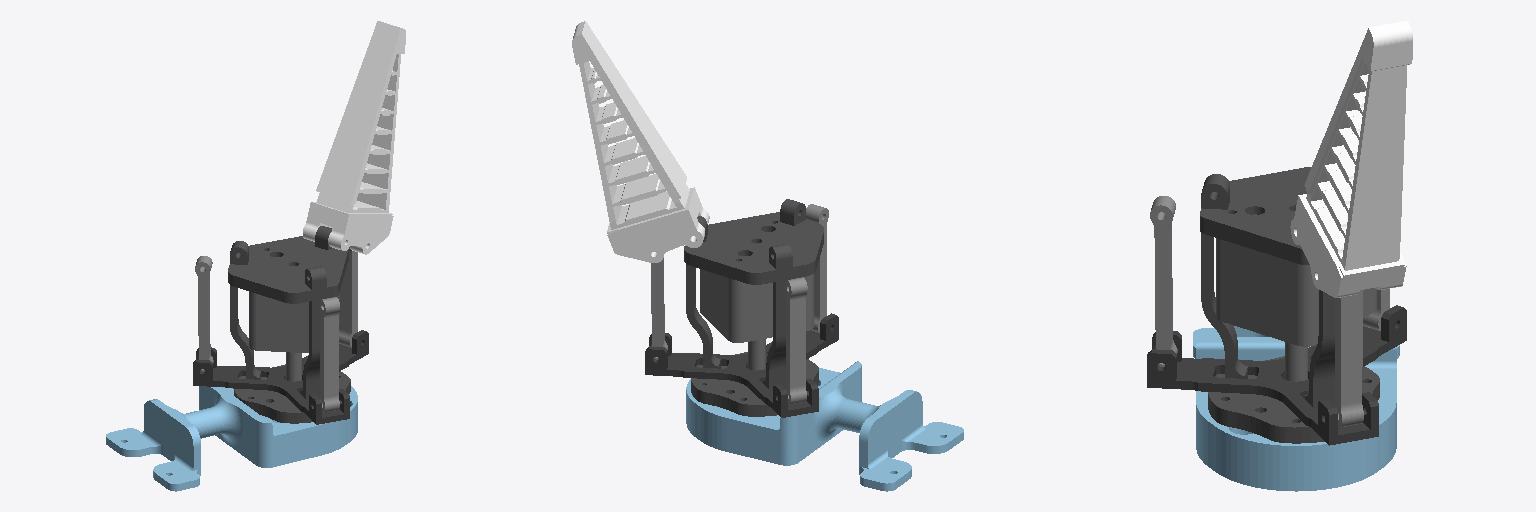
robot.urdf — gripper:
<?xml version="1.0" ?>
<!-- Generated using onshape-to-robot -->
<!-- Onshape document_id: 77ae2a3fa2dfa0e3fa6e957b -->
<robot name="gripper">
  <!-- Link d435_mount -->
  <link name="d435_mount">
    <inertial>
      <origin xyz="0.00378217 0.000154165 0.0635909" rpy="0 0 0"/>
      <mass value="0.105692"/>
      <inertia ixx="7.48223e-05" ixy="-3.1735e-07" ixz="5.26878e-07" iyy="7.47453e-05" iyz="-4.37367e-07" izz="3.93423e-05"/>
    </inertial>
    <!-- Part 42_step_motor -->
    <visual>
      <origin xyz="0.0633248 -0.0560504 0.051284" rpy="-1.5708 1.07553e-16 0.927293"/>
      <geometry>
        <mesh filename="package://gripper_description/meshes/42_step_motor.stl"/>
      </geometry>
      <material name="42_step_motor_material">
        <color rgba="0.501961 0.501961 0.501961 1"/>
      </material>
    </visual>
    <collision>
      <origin xyz="0.0633248 -0.0560504 0.051284" rpy="-1.5708 1.07553e-16 0.927293"/>
      <geometry>
        <mesh filename="package://gripper_description/meshes/42_step_motor.stl"/>
      </geometry>
    </collision>
    <!-- Part fa3_main_body -->
    <visual>
      <origin xyz="0.0633248 -0.0560504 0.050684" rpy="-1.5708 1.07553e-16 0.927293"/>
      <geometry>
        <mesh filename="package://gripper_description/meshes/fa3_main_body.stl"/>
      </geometry>
      <material name="fa3_main_body_material">
        <color rgba="0.372549 0.372549 0.372549 1"/>
      </material>
    </visual>
    <collision>
      <origin xyz="0.0633248 -0.0560504 0.050684" rpy="-1.5708 1.07553e-16 0.927293"/>
      <geometry>
        <mesh filename="package://gripper_description/meshes/fa3_main_body.stl"/>
      </geometry>
    </collision>
    <!-- Part d435_mount -->
    <visual>
      <origin xyz="0.004 -2.44929e-19 0" rpy="1.5708 -0 -1.5708"/>
      <geometry>
        <mesh filename="package://gripper_description/meshes/d435_mount.stl"/>
      </geometry>
      <material name="d435_mount_material">
        <color rgba="0.615686 0.811765 0.929412 1"/>
      </material>
    </visual>
    <collision>
      <origin xyz="0.004 -2.44929e-19 0" rpy="1.5708 -0 -1.5708"/>
      <geometry>
        <mesh filename="package://gripper_description/meshes/d435_mount.stl"/>
      </geometry>
    </collision>
  </link>
  <!-- Frame eef (dummy link + fixed joint) -->
  <link name="eef">
    <origin xyz="0 0 0" rpy="0 -0 0"/>
    <inertial>
      <origin xyz="0 0 0" rpy="0 0 0"/>
      <mass value="1e-9"/>
      <inertia ixx="0" ixy="0" ixz="0" iyy="0" iyz="0" izz="0"/>
    </inertial>
  </link>
  <joint name="eef_frame" type="fixed">
    <origin xyz="0.00399996 -1.25049e-08 0.201" rpy="1.45717e-16 1.07553e-16 0.927293"/>
    <parent link="d435_mount"/>
    <child link="eef"/>
    <axis xyz="0 0 0"/>
  </joint>
  <!-- Link 42_motor_nut -->
  <link name="42_motor_nut">
    <inertial>
      <origin xyz="-4.09809e-15 -9.55014e-16 -0.0013495" rpy="0 0 0"/>
      <mass value="0.0110913"/>
      <inertia ixx="5.82726e-06" ixy="-7.68878e-33" ixz="1.85499e-20" iyy="5.82726e-06" iyz="4.8861e-21" izz="1.14227e-05"/>
    </inertial>
    <!-- Part fa3_driveboard -->
    <visual>
      <origin xyz="-0.00924528 -0.0810901 0.0190666" rpy="-1.5708 -4.90029e-16 0"/>
      <geometry>
        <mesh filename="package://gripper_description/meshes/fa3_driveboard.stl"/>
      </geometry>
      <material name="fa3_driveboard_material">
        <color rgba="0.309804 0.309804 0.309804 1"/>
      </material>
    </visual>
    <collision>
      <origin xyz="-0.00924528 -0.0810901 0.0190666" rpy="-1.5708 -4.90029e-16 0"/>
      <geometry>
        <mesh filename="package://gripper_description/meshes/fa3_driveboard.stl"/>
      </geometry>
    </collision>
    <!-- Part 42_motor_nut -->
    <visual>
      <origin xyz="-0.00924528 -0.0810901 0.0190666" rpy="-1.5708 -0 0"/>
      <geometry>
        <mesh filename="package://gripper_description/meshes/42_motor_nut.stl"/>
      </geometry>
      <material name="42_motor_nut_material">
        <color rgba="1 0.952941 0.380392 1"/>
      </material>
    </visual>
    <collision>
      <origin xyz="-0.00924528 -0.0810901 0.0190666" rpy="-1.5708 -0 0"/>
      <geometry>
        <mesh filename="package://gripper_description/meshes/42_motor_nut.stl"/>
      </geometry>
    </collision>
  </link>
  <!-- Joint from d435_mount to 42_motor_nut -->
  <joint name="slide" type="prismatic">
    <origin xyz="0.00399996 -1.25049e-08 0.02906" rpy="9.4369e-16 9.35345e-17 0.927293"/>
    <parent link="d435_mount"/>
    <child link="42_motor_nut"/>
    <axis xyz="0 0 1"/>
    <limit effort="10" velocity="10" lower="-5.20417e-18" upper="0.01344"/>
  </joint>
  <!-- Link famr20100_soft_2 -->
  <link name="famr20100_soft_2">
    <inertial>
      <origin xyz="-0.0245153 -0.0258708 0.004" rpy="0 0 0"/>
      <mass value="0.0327922"/>
      <inertia ixx="7.79589e-06" ixy="-8.48113e-06" ixz="8.98551e-15" iyy="2.81181e-05" iyz="6.64115e-15" izz="3.32867e-05"/>
    </inertial>
    <!-- Part famr20100_soft_2 -->
    <visual>
      <origin xyz="0.0300985 0.113752 0.0132453" rpy="1.43413 1.5708 0"/>
      <geometry>
        <mesh filename="package://gripper_description/meshes/famr20100_soft_2.stl"/>
      </geometry>
      <material name="famr20100_soft_2_material">
        <color rgba="1 1 1 1"/>
      </material>
    </visual>
    <collision>
      <origin xyz="0.0300985 0.113752 0.0132453" rpy="1.43413 1.5708 0"/>
      <geometry>
        <mesh filename="package://gripper_description/meshes/famr20100_soft_2.stl"/>
      </geometry>
    </collision>
  </link>
  <!-- Link fa3_link_2 -->
  <link name="fa3_link_2">
    <inertial>
      <origin xyz="0.0269889 0.000772768 -0.004" rpy="0 0 0"/>
      <mass value="0.002697"/>
      <inertia ixx="2.26269e-08" ixy="-2.53446e-08" ixz="-1.40691e-24" iyy="9.0706e-07" iyz="3.40899e-25" izz="9.00919e-07"/>
    </inertial>
    <!-- Part fa3_link_2 -->
    <visual>
      <origin xyz="0.0392113 0.127636 0.00524528" rpy="1.5708 1.5708 0"/>
      <geometry>
        <mesh filename="package://gripper_description/meshes/fa3_link_2.stl"/>
      </geometry>
      <material name="fa3_link_2_material">
        <color rgba="0.603922 0.603922 0.603922 1"/>
      </material>
    </visual>
    <collision>
      <origin xyz="0.0392113 0.127636 0.00524528" rpy="1.5708 1.5708 0"/>
      <geometry>
        <mesh filename="package://gripper_description/meshes/fa3_link_2.stl"/>
      </geometry>
    </collision>
  </link>
  <!-- Link 42_motor_nut_2 -->
  <link name="42_motor_nut_2">
    <inertial>
      <origin xyz="0.00480728 -0.0450977 0.004" rpy="0 0 0"/>
      <mass value="0.0110913"/>
      <inertia ixx="1.14207e-05" ixy="-1.04583e-07" ixz="-1.4047e-20" iyy="5.82921e-06" iyz="-1.58977e-20" izz="5.82726e-06"/>
    </inertial>
    <!-- Part fa3_driveboard_2 -->
    <visual>
      <origin xyz="-0.0171211 -0.125792 -0.00524528" rpy="-1.58949 -1.5708 0"/>
      <geometry>
        <mesh filename="package://gripper_description/meshes/fa3_driveboard.stl"/>
      </geometry>
      <material name="fa3_driveboard_2_material">
        <color rgba="0.309804 0.309804 0.309804 1"/>
      </material>
    </visual>
    <collision>
      <origin xyz="-0.0171211 -0.125792 -0.00524528" rpy="-1.58949 -1.5708 0"/>
      <geometry>
        <mesh filename="package://gripper_description/meshes/fa3_driveboard.stl"/>
      </geometry>
    </collision>
    <!-- Part 42_motor_nut_2 -->
    <visual>
      <origin xyz="-0.0171211 -0.125792 -0.00524528" rpy="-1.58949 -1.5708 0"/>
      <geometry>
        <mesh filename="package://gripper_description/meshes/42_motor_nut.stl"/>
      </geometry>
      <material name="42_motor_nut_2_material">
        <color rgba="1 0.952941 0.380392 1"/>
      </material>
    </visual>
    <collision>
      <origin xyz="-0.0171211 -0.125792 -0.00524528" rpy="-1.58949 -1.5708 0"/>
      <geometry>
        <mesh filename="package://gripper_description/meshes/42_motor_nut.stl"/>
      </geometry>
    </collision>
  </link>
  <!-- Joint from fa3_link_2 to 42_motor_nut_2 -->
  <joint name="joint_1_1" type="revolute">
    <origin xyz="0.0539779 0.00154554 0" rpy="-3.14159 -0 3.46945e-18"/>
    <parent link="fa3_link_2"/>
    <child link="42_motor_nut_2"/>
    <axis xyz="0 0 1"/>
    <limit effort="10" velocity="10" lower="-3.141592653589793" upper="3.141592653589793"/>
  </joint>
  <!-- Joint from famr20100_soft_2 to fa3_link_2 -->
  <joint name="joint_1_2" type="revolute">
    <origin xyz="0.00864266 -0.0180362 0.008" rpy="-5.88418e-15 -1.69309e-15 -0.0186952"/>
    <parent link="famr20100_soft_2"/>
    <child link="fa3_link_2"/>
    <axis xyz="0 0 1"/>
    <limit effort="10" velocity="10" lower="-3.141592653589793" upper="3.141592653589793"/>
  </joint>
  <!-- Joint from d435_mount to famr20100_soft_2 -->
  <joint name="joint_1_3" type="revolute">
    <origin xyz="-0.0156 0.0197 0.096" rpy="2.2143 1.5708 0"/>
    <parent link="d435_mount"/>
    <child link="famr20100_soft_2"/>
    <axis xyz="0 0 1"/>
    <limit effort="10" velocity="10" lower="-3.141592653589793" upper="3.141592653589793"/>
  </joint>
  <!-- Link famr20100_soft_1 -->
  <link name="famr20100_soft_1">
    <inertial>
      <origin xyz="-0.0222895 0.0278115 0.004" rpy="0 0 0"/>
      <mass value="0.0327922"/>
      <inertia ixx="3.00303e-05" ixy="5.42327e-06" ixz="1.35211e-13" iyy="5.88364e-06" iyz="-4.5334e-13" izz="3.32867e-05"/>
    </inertial>
    <!-- Part famr20100_soft_1 -->
    <visual>
      <origin xyz="-0.0210517 -0.045316 0.0696035" rpy="-3.14159 -0.523599 0"/>
      <geometry>
        <mesh filename="package://gripper_description/meshes/famr20100_soft_1.stl"/>
      </geometry>
      <material name="famr20100_soft_1_material">
        <color rgba="1 1 1 1"/>
      </material>
    </visual>
    <collision>
      <origin xyz="-0.0210517 -0.045316 0.0696035" rpy="-3.14159 -0.523599 0"/>
      <geometry>
        <mesh filename="package://gripper_description/meshes/famr20100_soft_1.stl"/>
      </geometry>
    </collision>
  </link>
  <!-- Link fa3_link -->
  <link name="fa3_link">
    <inertial>
      <origin xyz="0.0269889 0.000772768 -0.004" rpy="0 0 0"/>
      <mass value="0.002697"/>
      <inertia ixx="2.26269e-08" ixy="-2.53446e-08" ixz="-2.47948e-23" iyy="9.0706e-07" iyz="1.1577e-23" izz="9.00919e-07"/>
    </inertial>
    <!-- Part fa3_link -->
    <visual>
      <origin xyz="0.0392113 -0.00200617 0.0616035" rpy="3.14159 -0.523599 1.5708"/>
      <geometry>
        <mesh filename="package://gripper_description/meshes/fa3_link.stl"/>
      </geometry>
      <material name="fa3_link_material">
        <color rgba="0.603922 0.603922 0.603922 1"/>
      </material>
    </visual>
    <collision>
      <origin xyz="0.0392113 -0.00200617 0.0616035" rpy="3.14159 -0.523599 1.5708"/>
      <geometry>
        <mesh filename="package://gripper_description/meshes/fa3_link.stl"/>
      </geometry>
    </collision>
  </link>
  <!-- Link 42_motor_nut_3 -->
  <link name="42_motor_nut_3">
    <inertial>
      <origin xyz="0.0450977 0.00480728 0.004" rpy="0 0 0"/>
      <mass value="0.0110913"/>
      <inertia ixx="5.82921e-06" ixy="1.04583e-07" ixz="-3.76397e-19" iyy="1.14207e-05" iyz="1.59138e-20" izz="5.82726e-06"/>
    </inertial>
    <!-- Part fa3_driveboard_3 -->
    <visual>
      <origin xyz="-0.00382713 -0.0146976 -0.0616035" rpy="6.99202e-16 0.523599 -0.0186952"/>
      <geometry>
        <mesh filename="package://gripper_description/meshes/fa3_driveboard.stl"/>
      </geometry>
      <material name="fa3_driveboard_3_material">
        <color rgba="0.309804 0.309804 0.309804 1"/>
      </material>
    </visual>
    <collision>
      <origin xyz="-0.00382713 -0.0146976 -0.0616035" rpy="6.99202e-16 0.523599 -0.0186952"/>
      <geometry>
        <mesh filename="package://gripper_description/meshes/fa3_driveboard.stl"/>
      </geometry>
    </collision>
    <!-- Part 42_motor_nut_3 -->
    <visual>
      <origin xyz="-0.00382713 -0.0146976 -0.0616035" rpy="9.8212e-16 0.523599 -0.0186952"/>
      <geometry>
        <mesh filename="package://gripper_description/meshes/42_motor_nut.stl"/>
      </geometry>
      <material name="42_motor_nut_3_material">
        <color rgba="1 0.952941 0.380392 1"/>
      </material>
    </visual>
    <collision>
      <origin xyz="-0.00382713 -0.0146976 -0.0616035" rpy="9.8212e-16 0.523599 -0.0186952"/>
      <geometry>
        <mesh filename="package://gripper_description/meshes/42_motor_nut.stl"/>
      </geometry>
    </collision>
  </link>
  <!-- Joint from fa3_link to 42_motor_nut_3 -->
  <joint name="joint_2_1" type="revolute">
    <origin xyz="0.0539779 0.00154554 -2.1684e-18" rpy="3.14159 -1.38778e-17 1.5708"/>
    <parent link="fa3_link"/>
    <child link="42_motor_nut_3"/>
    <axis xyz="0 0 1"/>
    <limit effort="10" velocity="10" lower="-3.141592653589793" upper="3.141592653589793"/>
  </joint>
  <!-- Joint from famr20100_soft_1 to fa3_link -->
  <joint name="joint_2_2" type="revolute">
    <origin xyz="-0.0190455 -0.00610471 0.008" rpy="-6.10623e-15 -3.9465e-16 -1.72616"/>
    <parent link="famr20100_soft_1"/>
    <child link="fa3_link"/>
    <axis xyz="0 0 1"/>
    <limit effort="10" velocity="10" lower="-3.141592653589793" upper="3.141592653589793"/>
  </joint>
  <!-- Joint from d435_mount to famr20100_soft_1 -->
  <joint name="joint_2_3" type="revolute">
    <origin xyz="-0.00326079 -0.0268241 0.096" rpy="1.5708 -0.136671 1.45089"/>
    <parent link="d435_mount"/>
    <child link="famr20100_soft_1"/>
    <axis xyz="0 0 1"/>
    <limit effort="10" velocity="10" lower="-3.141592653589793" upper="3.141592653589793"/>
  </joint>
  <!-- Link famr20100_soft -->
  <link name="famr20100_soft">
    <inertial>
      <origin xyz="0.0258708 -0.0245153 0.004" rpy="0 0 0"/>
      <mass value="0.0327922"/>
      <inertia ixx="2.8118e-05" ixy="8.48113e-06" ixz="1.83614e-13" iyy="7.79589e-06" iyz="-4.12638e-13" izz="3.32867e-05"/>
    </inertial>
    <!-- Part famr20100_soft -->
    <visual>
      <origin xyz="-0.0011827 0.0455799 -0.0708487" rpy="-6.73037e-16 -0.523599 0.136671"/>
      <geometry>
        <mesh filename="package://gripper_description/meshes/famr20100_soft.stl"/>
      </geometry>
      <material name="famr20100_soft_material">
        <color rgba="1 1 1 1"/>
      </material>
    </visual>
    <collision>
      <origin xyz="-0.0011827 0.0455799 -0.0708487" rpy="-6.73037e-16 -0.523599 0.136671"/>
      <geometry>
        <mesh filename="package://gripper_description/meshes/famr20100_soft.stl"/>
      </geometry>
    </collision>
  </link>
  <!-- Link fa3_link_1 -->
  <link name="fa3_link_1">
    <inertial>
      <origin xyz="0.0269889 0.000772768 -0.004" rpy="0 0 0"/>
      <mass value="0.002697"/>
      <inertia ixx="2.26269e-08" ixy="-2.53446e-08" ixz="-4.91431e-23" iyy="9.0706e-07" iyz="-3.46703e-23" izz="9.00919e-07"/>
    </inertial>
    <!-- Part fa3_link_1 -->
    <visual>
      <origin xyz="0.0392113 0.0140071 -0.0788487" rpy="5.07782e-16 -0.523599 -1.5708"/>
      <geometry>
        <mesh filename="package://gripper_description/meshes/fa3_link_1.stl"/>
      </geometry>
      <material name="fa3_link_1_material">
        <color rgba="0.603922 0.603922 0.603922 1"/>
      </material>
    </visual>
    <collision>
      <origin xyz="0.0392113 0.0140071 -0.0788487" rpy="5.07782e-16 -0.523599 -1.5708"/>
      <geometry>
        <mesh filename="package://gripper_description/meshes/fa3_link_1.stl"/>
      </geometry>
    </collision>
  </link>
  <!-- Link 42_motor_nut_4 -->
  <link name="42_motor_nut_4">
    <inertial>
      <origin xyz="-0.0450977 -0.00480728 0.004" rpy="0 0 0"/>
      <mass value="0.0110913"/>
      <inertia ixx="5.82921e-06" ixy="1.04583e-07" ixz="-3.43173e-19" iyy="1.14207e-05" iyz="-2.78735e-20" izz="5.82726e-06"/>
    </inertial>
    <!-- Part fa3_driveboard_4 -->
    <visual>
      <origin xyz="-0.0121834 0.0149969 0.0788487" rpy="3.14159 0.523599 -0.0186952"/>
      <geometry>
        <mesh filename="package://gripper_description/meshes/fa3_driveboard.stl"/>
      </geometry>
      <material name="fa3_driveboard_4_material">
        <color rgba="0.309804 0.309804 0.309804 1"/>
      </material>
    </visual>
    <collision>
      <origin xyz="-0.0121834 0.0149969 0.0788487" rpy="3.14159 0.523599 -0.0186952"/>
      <geometry>
        <mesh filename="package://gripper_description/meshes/fa3_driveboard.stl"/>
      </geometry>
    </collision>
    <!-- Part 42_motor_nut_4 -->
    <visual>
      <origin xyz="-0.0121834 0.0149969 0.0788487" rpy="3.14159 0.523599 -0.0186952"/>
      <geometry>
        <mesh filename="package://gripper_description/meshes/42_motor_nut.stl"/>
      </geometry>
      <material name="42_motor_nut_4_material">
        <color rgba="1 0.952941 0.380392 1"/>
      </material>
    </visual>
    <collision>
      <origin xyz="-0.0121834 0.0149969 0.0788487" rpy="3.14159 0.523599 -0.0186952"/>
      <geometry>
        <mesh filename="package://gripper_description/meshes/42_motor_nut.stl"/>
      </geometry>
    </collision>
  </link>
  <!-- Joint from fa3_link_1 to 42_motor_nut_4 -->
  <joint name="joint_3_1" type="revolute">
    <origin xyz="0.0539779 0.00154554 2.08167e-17" rpy="-3.14159 -5.55112e-17 -1.5708"/>
    <parent link="fa3_link_1"/>
    <child link="42_motor_nut_4"/>
    <axis xyz="0 0 1"/>
    <limit effort="10" velocity="10" lower="-3.141592653589793" upper="3.141592653589793"/>
  </joint>
  <!-- Joint from famr20100_soft to fa3_link_1 -->
  <joint name="joint_3_2" type="revolute">
    <origin xyz="0.0180362 0.00864266 0.008" rpy="9.4369e-15 -9.567e-16 1.5521"/>
    <parent link="famr20100_soft"/>
    <child link="fa3_link_1"/>
    <axis xyz="0 0 1"/>
    <limit effort="10" velocity="10" lower="-3.141592653589793" upper="3.141592653589793"/>
  </joint>
  <!-- Joint from d435_mount to famr20100_soft -->
  <joint name="joint_3_3" type="revolute">
    <origin xyz="0.0308607 0.00712404 0.096" rpy="-1.5708 1.66002e-16 0.403695"/>
    <parent link="d435_mount"/>
    <child link="famr20100_soft"/>
    <axis xyz="0 0 1"/>
    <limit effort="10" velocity="10" lower="-3.141592653589793" upper="3.141592653589793"/>
  </joint>
</robot>

--- What the picture shows (computed from the rendered views, not written in the file) ---
3 views of the same robot in one strip: view 1: azimuth 30°, elevation 25°; view 2: azimuth 150°, elevation 25°; view 3: azimuth 270°, elevation 25° (orthographic).
Robot: gripper — 12 links, 11 joints (9 revolute, 1 prismatic, 1 fixed); root link d435_mount; default pose: all joints at 0.
Links seen in each view (by area): view 1: d435_mount, famr20100_soft, fa3_link, 42_motor_nut_3, fa3_link_1, fa3_link_2, 42_motor_nut_4, 42_motor_nut_2; view 2: d435_mount, famr20100_soft, 42_motor_nut_3, fa3_link_2, fa3_link, fa3_link_1, 42_motor_nut_2; view 3: d435_mount, famr20100_soft, 42_motor_nut_3, 42_motor_nut_4, fa3_link_1, fa3_link, fa3_link_2.
Link boxes in pixels (x1,y1,x2,y2): d435_mount: (106, 226, 357, 491); famr20100_soft: (303, 21, 405, 254); fa3_link: (319, 297, 339, 412); 42_motor_nut_3: (193, 330, 366, 417); fa3_link_1: (339, 247, 357, 347); fa3_link_2: (195, 256, 213, 371); 42_motor_nut_4: (193, 332, 368, 424); 42_motor_nut_2: (209, 338, 364, 423); d435_mount: (684, 199, 963, 491); famr20100_soft: (572, 21, 709, 262); 42_motor_nut_3: (645, 313, 836, 417); fa3_link_2: (785, 277, 807, 404); fa3_link: (806, 204, 828, 332); fa3_link_1: (651, 258, 667, 359); 42_motor_nut_2: (653, 316, 838, 416); d435_mount: (1193, 167, 1399, 491); famr20100_soft: (1290, 21, 1412, 297); 42_motor_nut_3: (1151, 305, 1406, 434); 42_motor_nut_4: (1147, 318, 1399, 445); fa3_link_1: (1334, 290, 1363, 427); fa3_link: (1150, 196, 1177, 366); fa3_link_2: (1363, 289, 1389, 330).
Bounding box of the posed robot: 0.1704 × 0.0904 × 0.1939 m (x, y, z).
11 mesh visuals loaded from 11 distinct referenced files (8 binary STL); not drawn: 6 (reference not matched to a file when rendering).